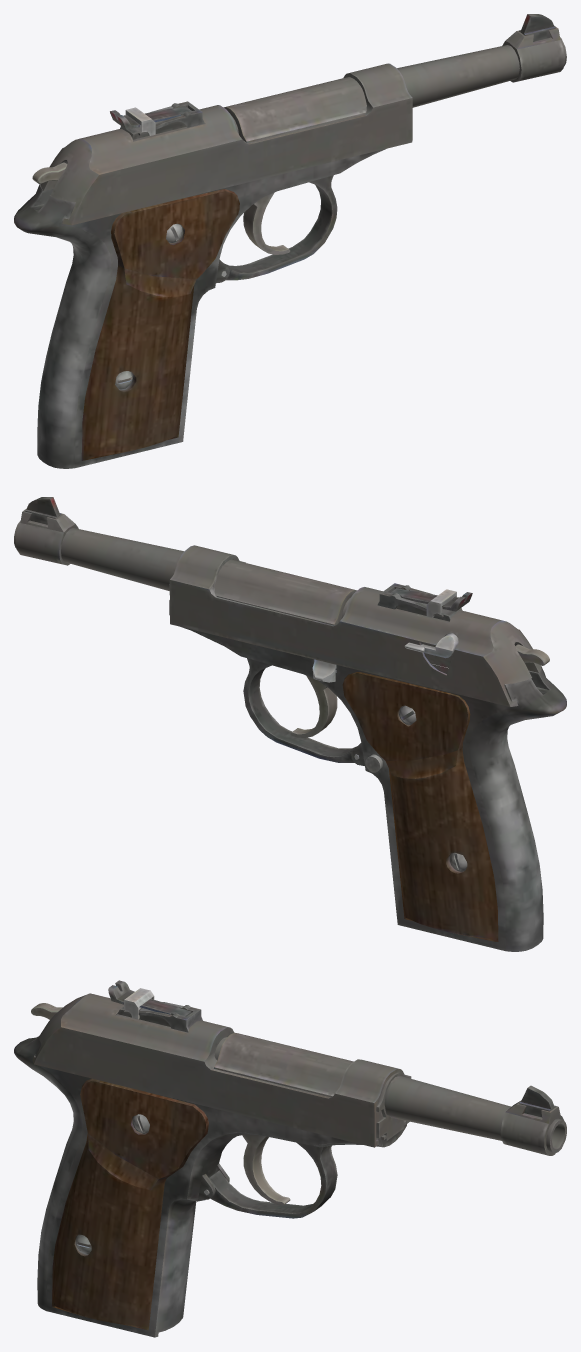
The model's file is pistol.glb.
3 views of the same model, one above another, from view 1: azimuth 30°, elevation 25°; view 2: azimuth 150°, elevation 25°; view 3: azimuth 330°, elevation 25° (orthographic).
Visible parts, largest first — view 1: service_pistol_pistol_a, service_pistol_slide_a, service_pistol_trigger_a; view 2: service_pistol_pistol_a, service_pistol_slide_a, service_pistol_trigger_a; view 3: service_pistol_pistol_a, service_pistol_slide_a, service_pistol_trigger_a.
Boxes of the visible parts, x1,y1,x2,y2 form: service_pistol_pistol_a: (14, 14, 566, 468); service_pistol_slide_a: (41, 63, 412, 225); service_pistol_trigger_a: (243, 192, 290, 254); service_pistol_pistol_a: (14, 497, 566, 951); service_pistol_slide_a: (169, 545, 545, 706); service_pistol_trigger_a: (290, 675, 337, 737); service_pistol_pistol_a: (14, 1032, 566, 1337); service_pistol_slide_a: (32, 980, 411, 1147); service_pistol_trigger_a: (242, 1134, 290, 1205).
Bounding box in the file's own units: 0.2219 × 0.1295 × 0.0318.
1 material, 1 textured.
